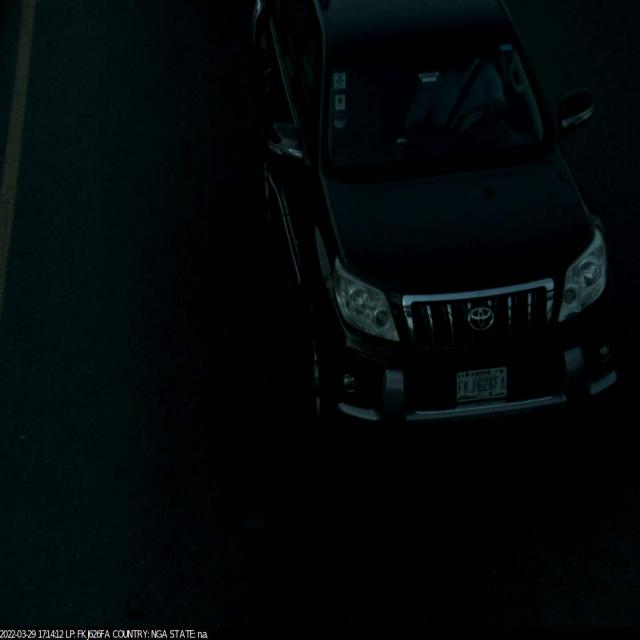windshield: (318, 35, 556, 170)
